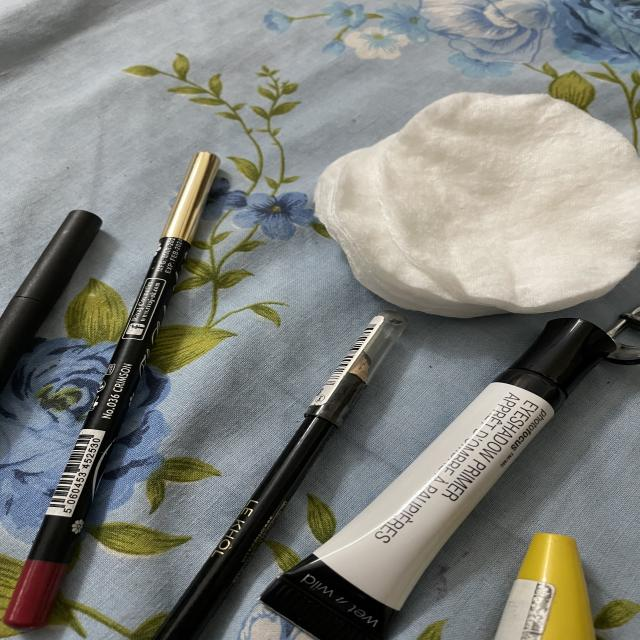eye liner: (156, 307, 402, 640)
lip liner: (0, 132, 224, 640)
nail polish remover: (297, 75, 640, 321)
primer: (404, 310, 631, 486)
